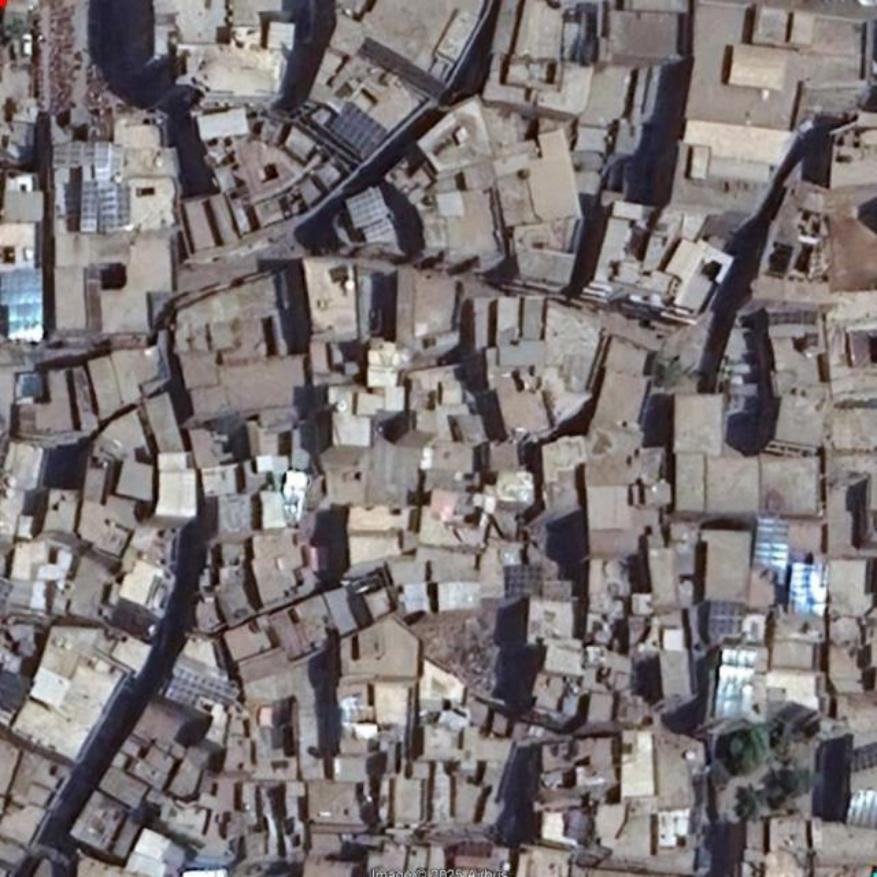Solarpanel: (332, 102, 390, 156), (79, 182, 131, 228), (344, 185, 386, 231), (789, 562, 825, 611), (711, 599, 743, 635), (508, 567, 543, 598)
